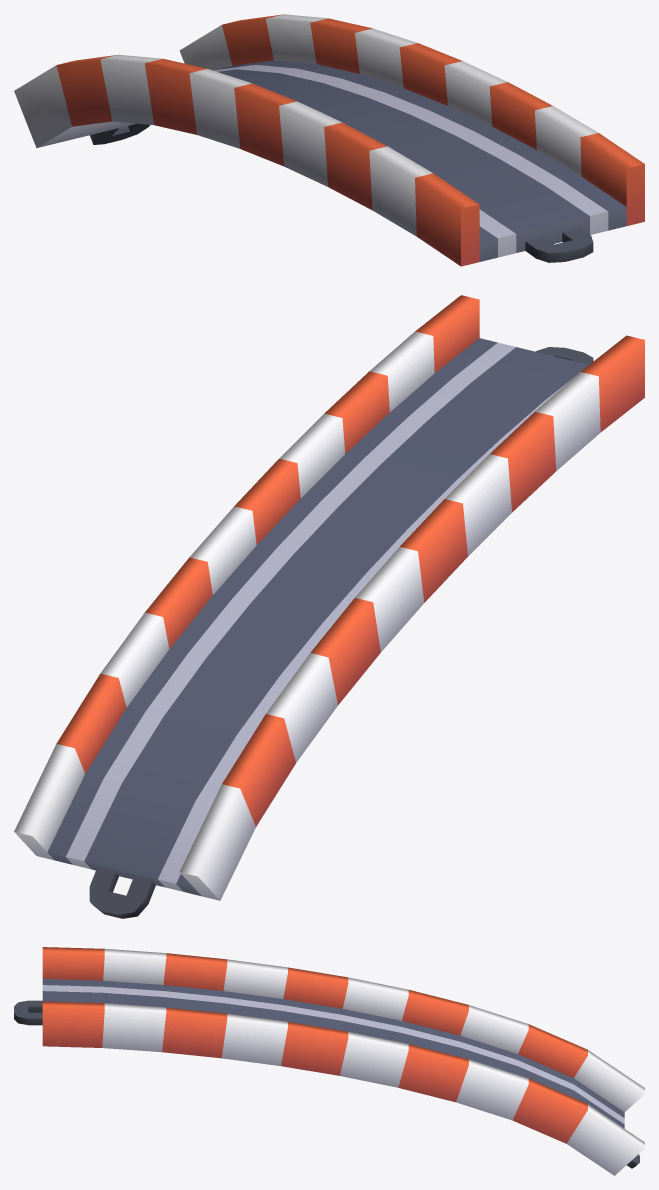
The model's file is track-road-narrow-straight-hill-end.glb.
3 renders of one model, top to bottom at view 1: azimuth 30°, elevation 25°; view 2: azimuth 150°, elevation 25°; view 3: azimuth 270°, elevation 25°, orthographic. The views are drawn at different scales.
Visible parts, largest first — view 1: track-road-narrow-straight-hill-end; view 2: track-road-narrow-straight-hill-end; view 3: track-road-narrow-straight-hill-end.
Boxes of the visible parts, bbox=[...] form: track-road-narrow-straight-hill-end: bbox=[14, 14, 644, 266]; track-road-narrow-straight-hill-end: bbox=[14, 295, 644, 918]; track-road-narrow-straight-hill-end: bbox=[14, 947, 644, 1175].
Size of the model in its own units: 1 by 1.44 by 4.41.
Materials: 1 (1 with a texture image).
